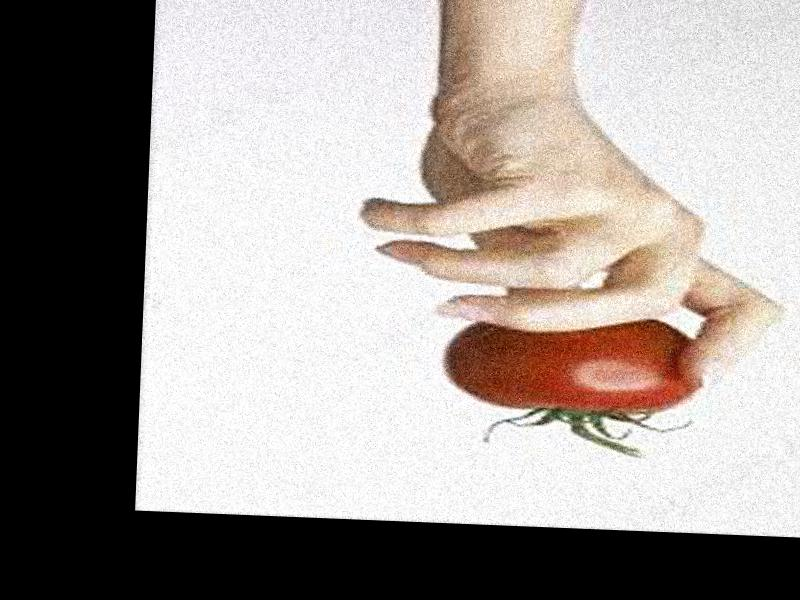Tomato: (444, 313, 700, 457)
